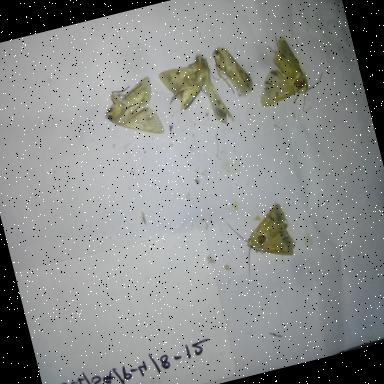abw: (152, 40, 238, 144), (244, 26, 334, 124), (214, 195, 302, 286), (91, 66, 171, 150), (206, 36, 261, 107)
